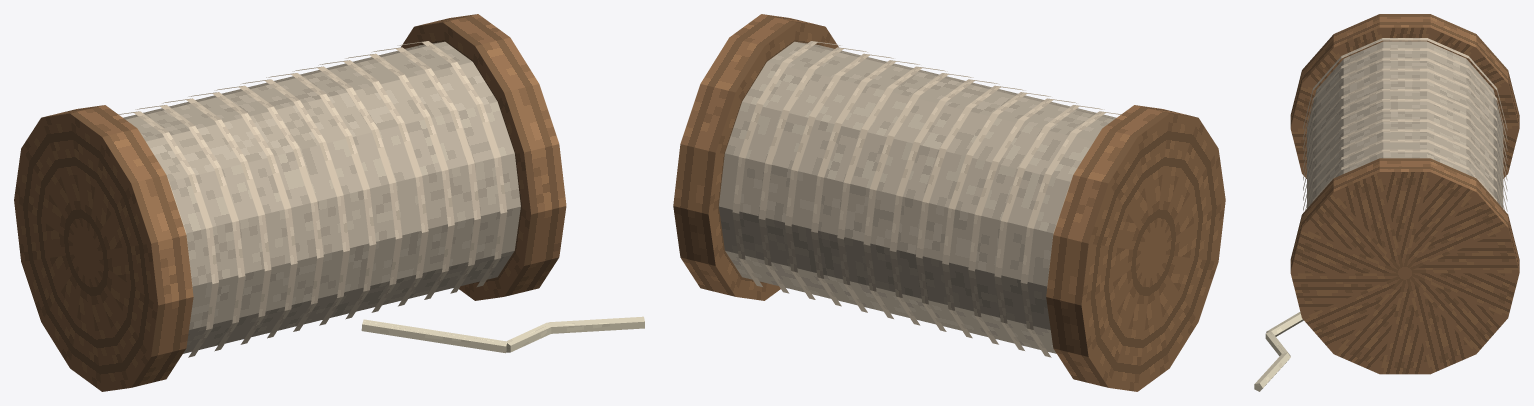
The model's file is thread.glb.
The picture shows the model from 3 angles, left to right: view 1: azimuth 30°, elevation 25°; view 2: azimuth 150°, elevation 25°; view 3: azimuth 270°, elevation 25°; orthographic projection. The views are drawn at different scales.
Parts seen in each view (by area): view 1: block_sewing thread spool, block_wooden spool flange (×2), block_wound thread strand (×12), block_loose end 0, block_loose end 2, block_loose end 1; view 2: block_sewing thread spool, block_wooden spool flange (×2), block_wound thread strand (×12); view 3: block_wooden spool flange (×2), block_sewing thread spool, block_wound thread strand (×12), block_loose end 2, block_loose end 0, block_loose end 1.
Part boxes in pixels (x1,y1,x2,y2): block_sewing thread spool: (123, 41, 520, 353); block_wooden spool flange (×2): (14, 14, 566, 391); block_wound thread strand (×12): (118, 41, 507, 357); block_loose end 0: (361, 319, 507, 353); block_loose end 2: (548, 316, 644, 333); block_loose end 1: (505, 322, 551, 352); block_sewing thread spool: (719, 41, 1116, 353); block_wooden spool flange (×2): (673, 14, 1225, 391); block_wound thread strand (×12): (732, 41, 1120, 357); block_wooden spool flange (×2): (1290, 14, 1519, 374); block_sewing thread spool: (1307, 41, 1503, 208); block_wound thread strand (×12): (1303, 38, 1507, 211); block_loose end 2: (1254, 352, 1290, 391); block_loose end 0: (1266, 312, 1303, 336); block_loose end 1: (1265, 331, 1290, 356).
Bounding box in the file's own units: 0.25 × 0.1302 × 0.1547.
Materials: 1 (1 with a texture image).
